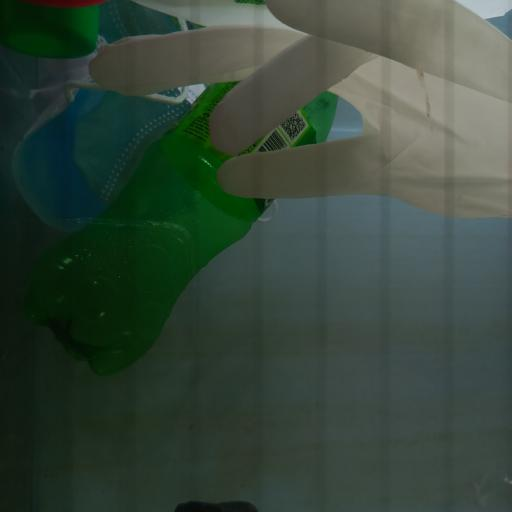bottle_cap: (4, 0, 98, 64)
glove: (87, 2, 512, 222)
mask: (16, 41, 202, 229)
plastic_bottle: (28, 76, 342, 376)
